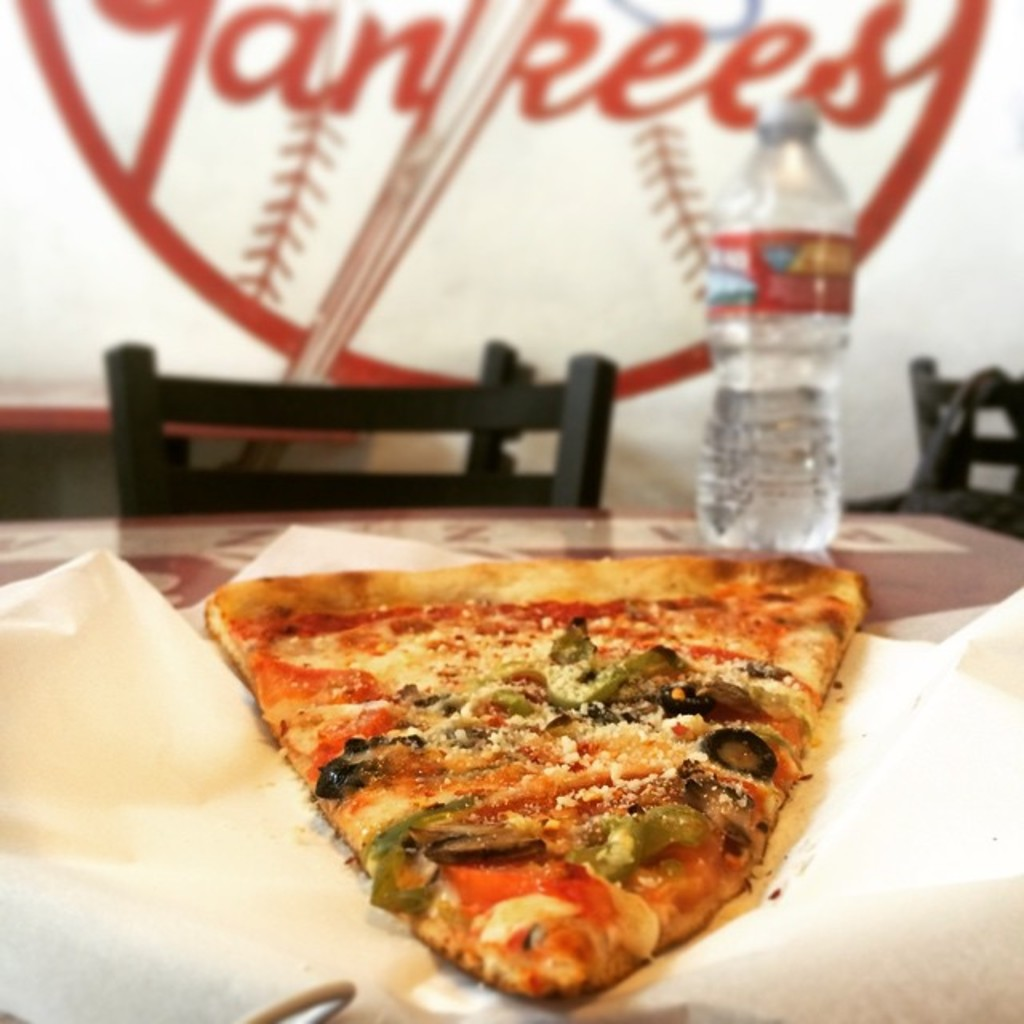Pizza: (203, 548, 865, 998)
